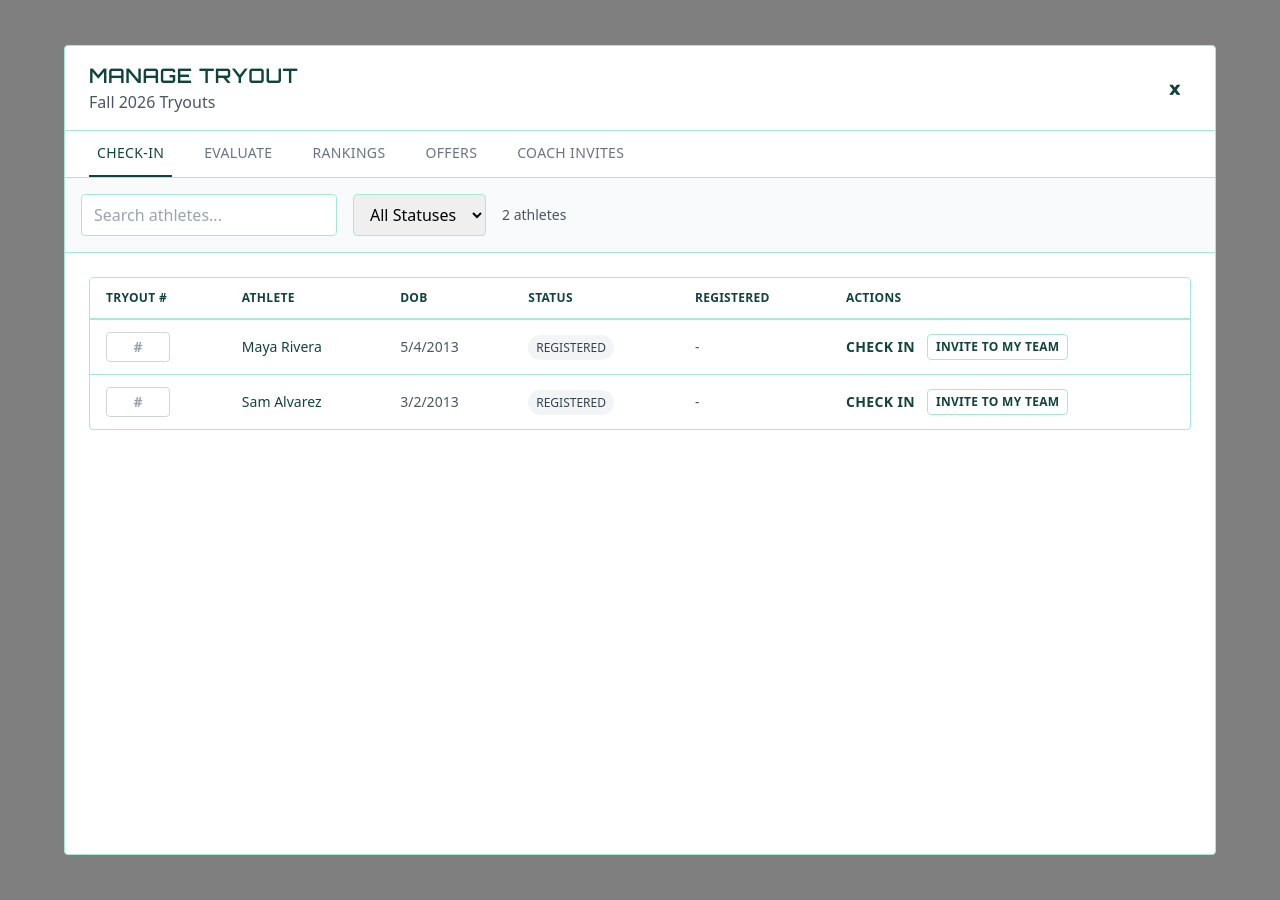
Test case: the director table › distinguishes "nobody has invited anyone" from "not available yet"
This screenshot has width=1280, height=900.
Expected: the text "Maya Rivera" is shown, [242,337,322,356]
Step 1. Click the button "Coach invites" → click(571, 154), box [509,131,632,177]
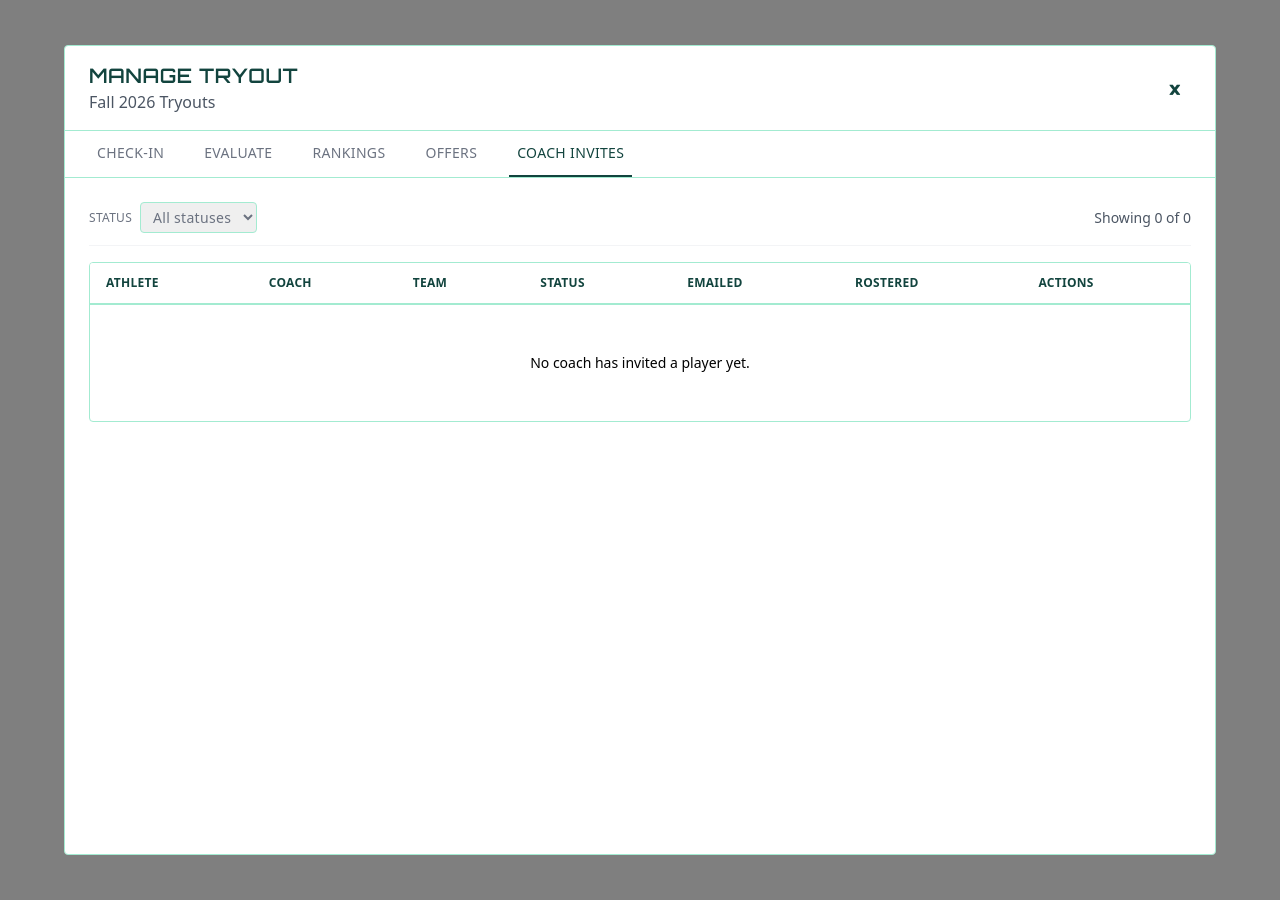
Expected: the dropdown named "Filter coach invites by status" is shown, [140,202,257,233]
Expected: the text "No coach has invited a player yet." is shown, [530,353,750,372]
